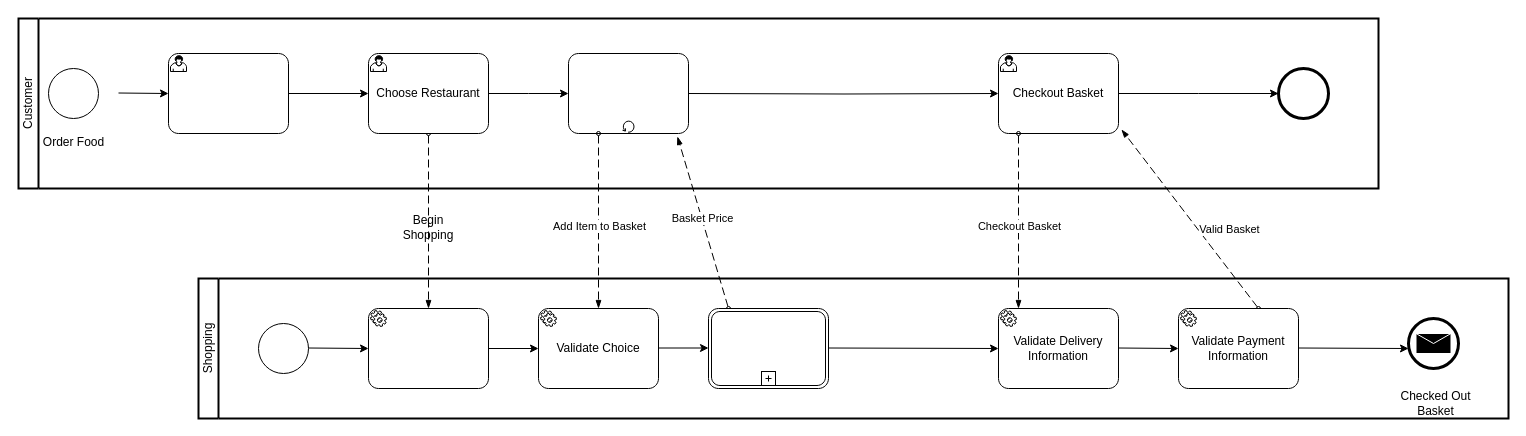
Image size: 1526x436. Some labels were removed from this diagram. Here are the shapes that lost their labels. From the top down, the centre of each, then its label:
pixel 228 93: Enter Location
pixel 628 93: Add Menu Choices to Basket
pixel 428 348: Create Basket
pixel 768 348: Price Basket
